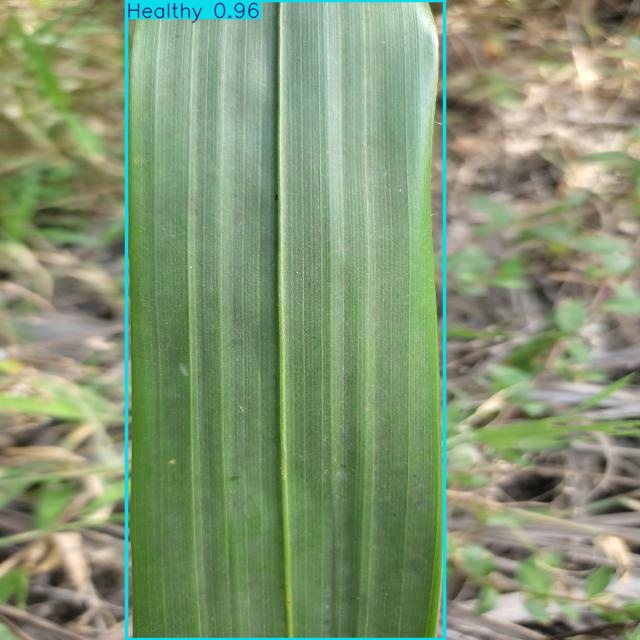Healthy: (127, 0, 444, 640)
